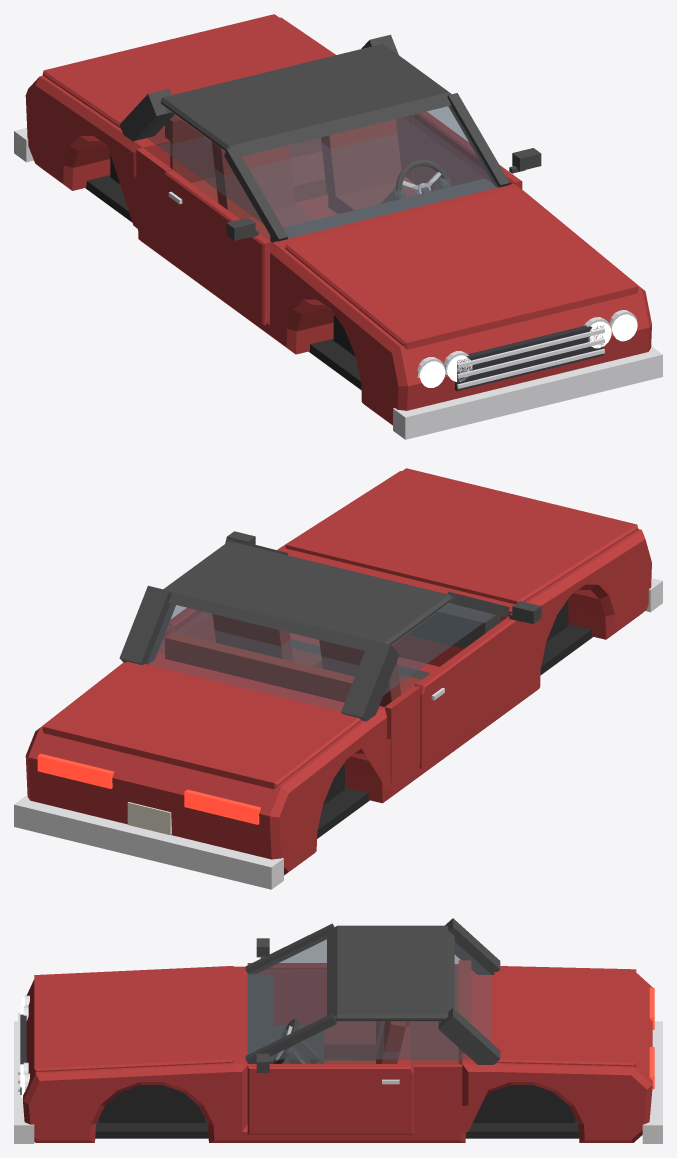
File: car_muscle.glb
The picture shows the model from 3 angles, top to bottom: view 1: azimuth 30°, elevation 25°; view 2: azimuth 150°, elevation 25°; view 3: azimuth 270°, elevation 25°; orthographic projection. The views are drawn at different scales.
Parts seen in each view (by area): view 1: Hood, Body, Cabin_Glass, Roof, Trunk, Door_R, Bumper_F, Seat_L, Pillars, Seat_Rear, Seat_R, Door_L (+6 smaller); view 2: Body, Hood, Trunk, Roof, Cabin_Glass, Door_R, Bumper_R, Pillars, Seat_Rear, Quarters, Seat_L, Underbody (+6 smaller); view 3: Body, Hood, Cabin_Glass, Trunk, Roof, Door_L, Pillars, Underbody, Quarters, Door_R, WheelWell_F, WheelWell_R (+8 smaller).
Part boxes in pixels (x1,y1,x2,y2): Hood: (285, 187, 638, 349); Body: (25, 17, 651, 425); Cabin_Glass: (146, 106, 497, 238); Roof: (160, 44, 451, 156); Trunk: (42, 14, 334, 128); Door_R: (164, 170, 272, 325); Bumper_F: (393, 346, 662, 439); Seat_L: (321, 119, 417, 213); Pillars: (119, 34, 509, 241); Seat_Rear: (165, 114, 327, 202); Seat_R: (211, 141, 313, 240); Door_L: (414, 112, 522, 191); Body: (25, 471, 651, 875); Hood: (285, 468, 638, 604); Trunk: (42, 661, 360, 789); Roof: (163, 541, 453, 650); Cabin_Glass: (147, 602, 494, 711); Door_R: (415, 616, 522, 768); Bumper_R: (14, 795, 283, 889); Pillars: (119, 537, 509, 721); Seat_Rear: (165, 632, 354, 702); Quarters: (158, 626, 420, 782); Seat_L: (212, 614, 322, 668); Underbody: (317, 624, 593, 838); Body: (23, 966, 652, 1142); Hood: (34, 966, 233, 1073); Cabin_Glass: (247, 935, 491, 1059); Trunk: (494, 966, 636, 1067); Roof: (327, 925, 454, 1021); Door_L: (247, 1064, 413, 1134); Pillars: (245, 918, 500, 1064); Underbody: (95, 1118, 578, 1138); Quarters: (414, 964, 462, 1128); Door_R: (247, 963, 409, 1026); WheelWell_F: (99, 1085, 204, 1122); WheelWell_R: (472, 1085, 575, 1122).
Bounding box in the file's own units: 2.3 × 1.11 × 5.08.
